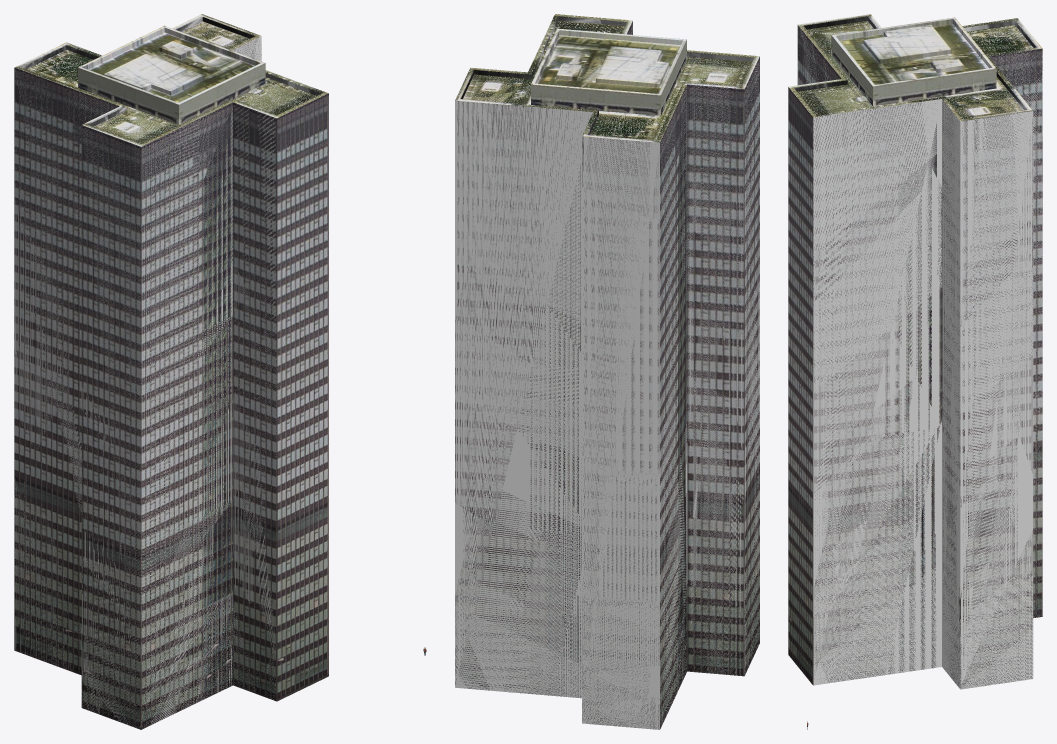
The model's file is London,-Euston-Tower.dae.
3 views of the same model, side by side, from view 1: azimuth 30°, elevation 25°; view 2: azimuth 150°, elevation 25°; view 3: azimuth 270°, elevation 25° (orthographic). The views are drawn at different scales.
Parts seen in each view (by area): view 1: SketchUp (×13); view 2: SketchUp (×11); view 3: SketchUp (×11).
Boxes of the visible parts, x1=… form: SketchUp (×13): x1=14, y1=14, x2=328, y2=729; SketchUp (×11): x1=455, y1=14, x2=759, y2=729; SketchUp (×11): x1=788, y1=14, x2=1042, y2=689.
Bounding box in the file's own units: 2671 × 1936 × 4898.
22 materials, 13 textured.
